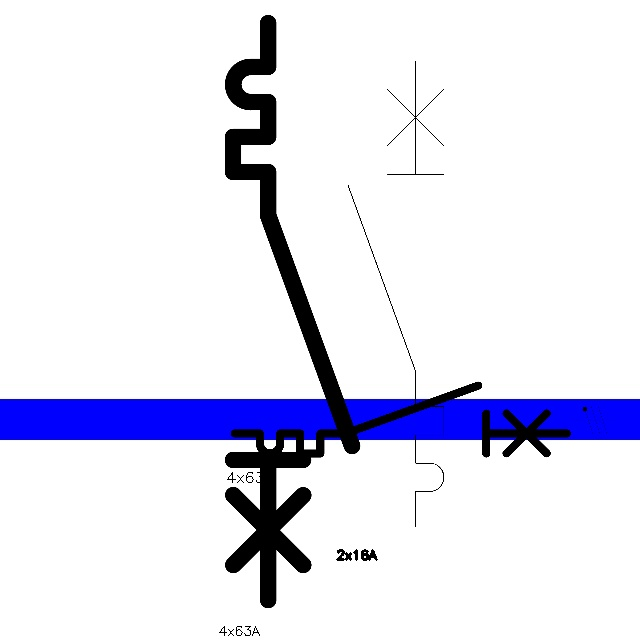interruptor_termomagnetico: (218, 8, 366, 615), (336, 49, 456, 539), (226, 377, 575, 462)
